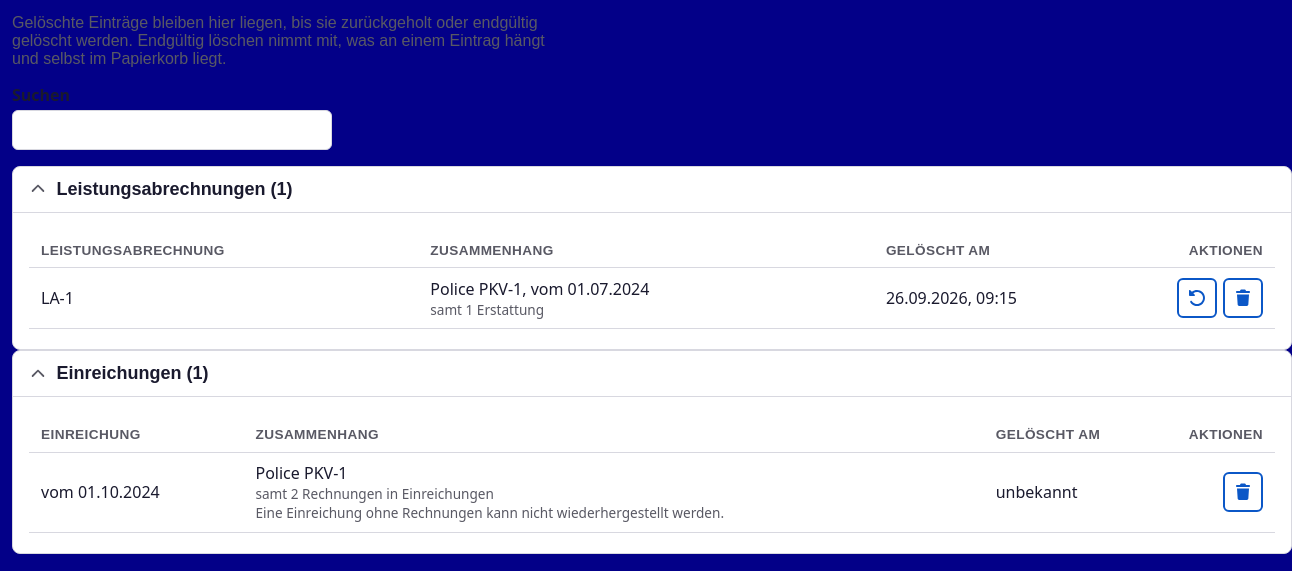
it: TrashView › narrows the list to what the search matches
The width and height of the screenshot is (1292, 571).
Type "LA-1" into the field labelled "Suchen".
click(172, 130); type("LA-1")  # box top-left (12, 110), bottom-right (332, 150)
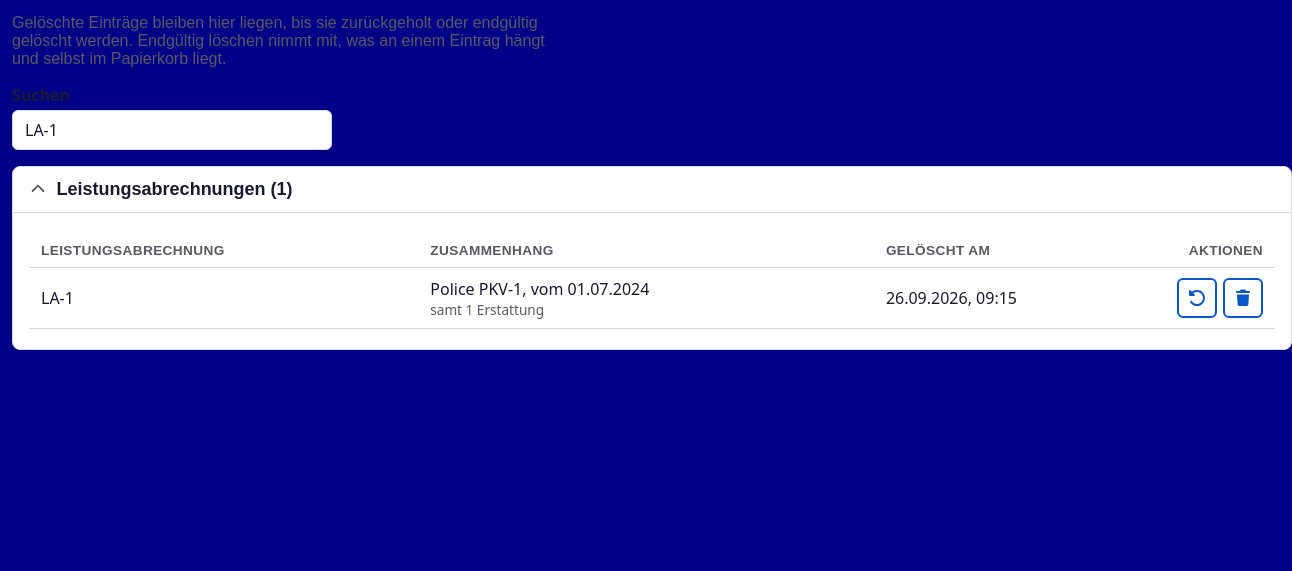
Expected: the text "Leistungsabrechnungen (1)" is shown, top-left (57, 179), bottom-right (293, 200)
Now the text "Einreichungen (1)" is gone
Replace the text in the field labelled "Suchen" with "gibtesnicht" at (172, 130), box top-left (12, 110), bottom-right (332, 150)
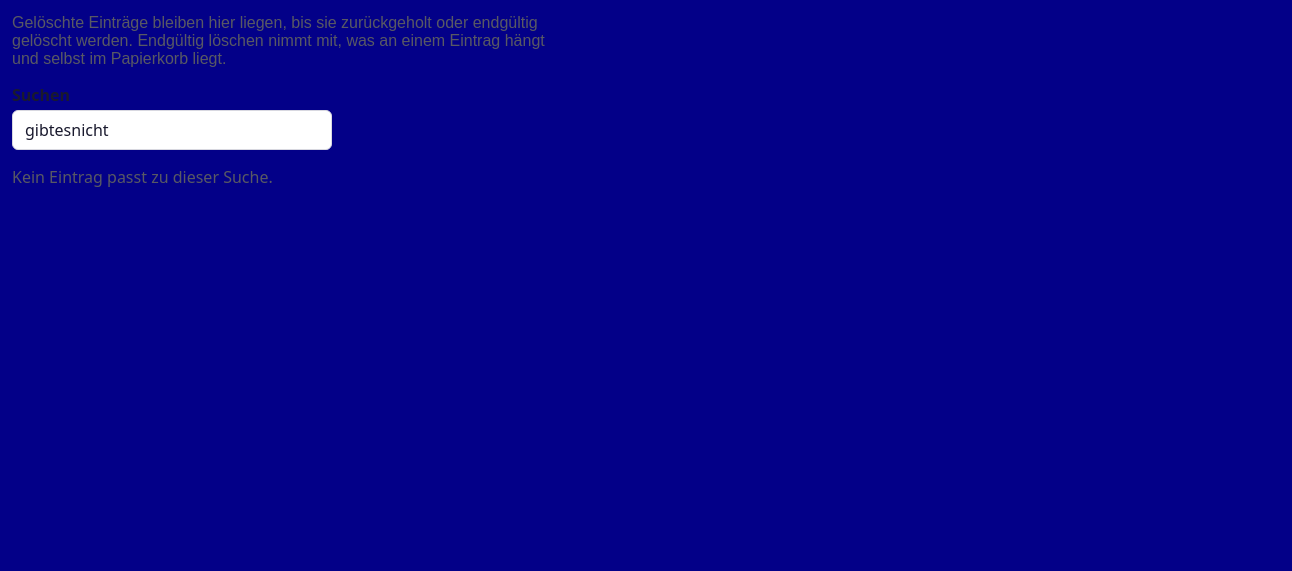
Now the text "Kein Eintrag passt zu dieser Suche." is shown, box top-left (12, 166), bottom-right (273, 188)
